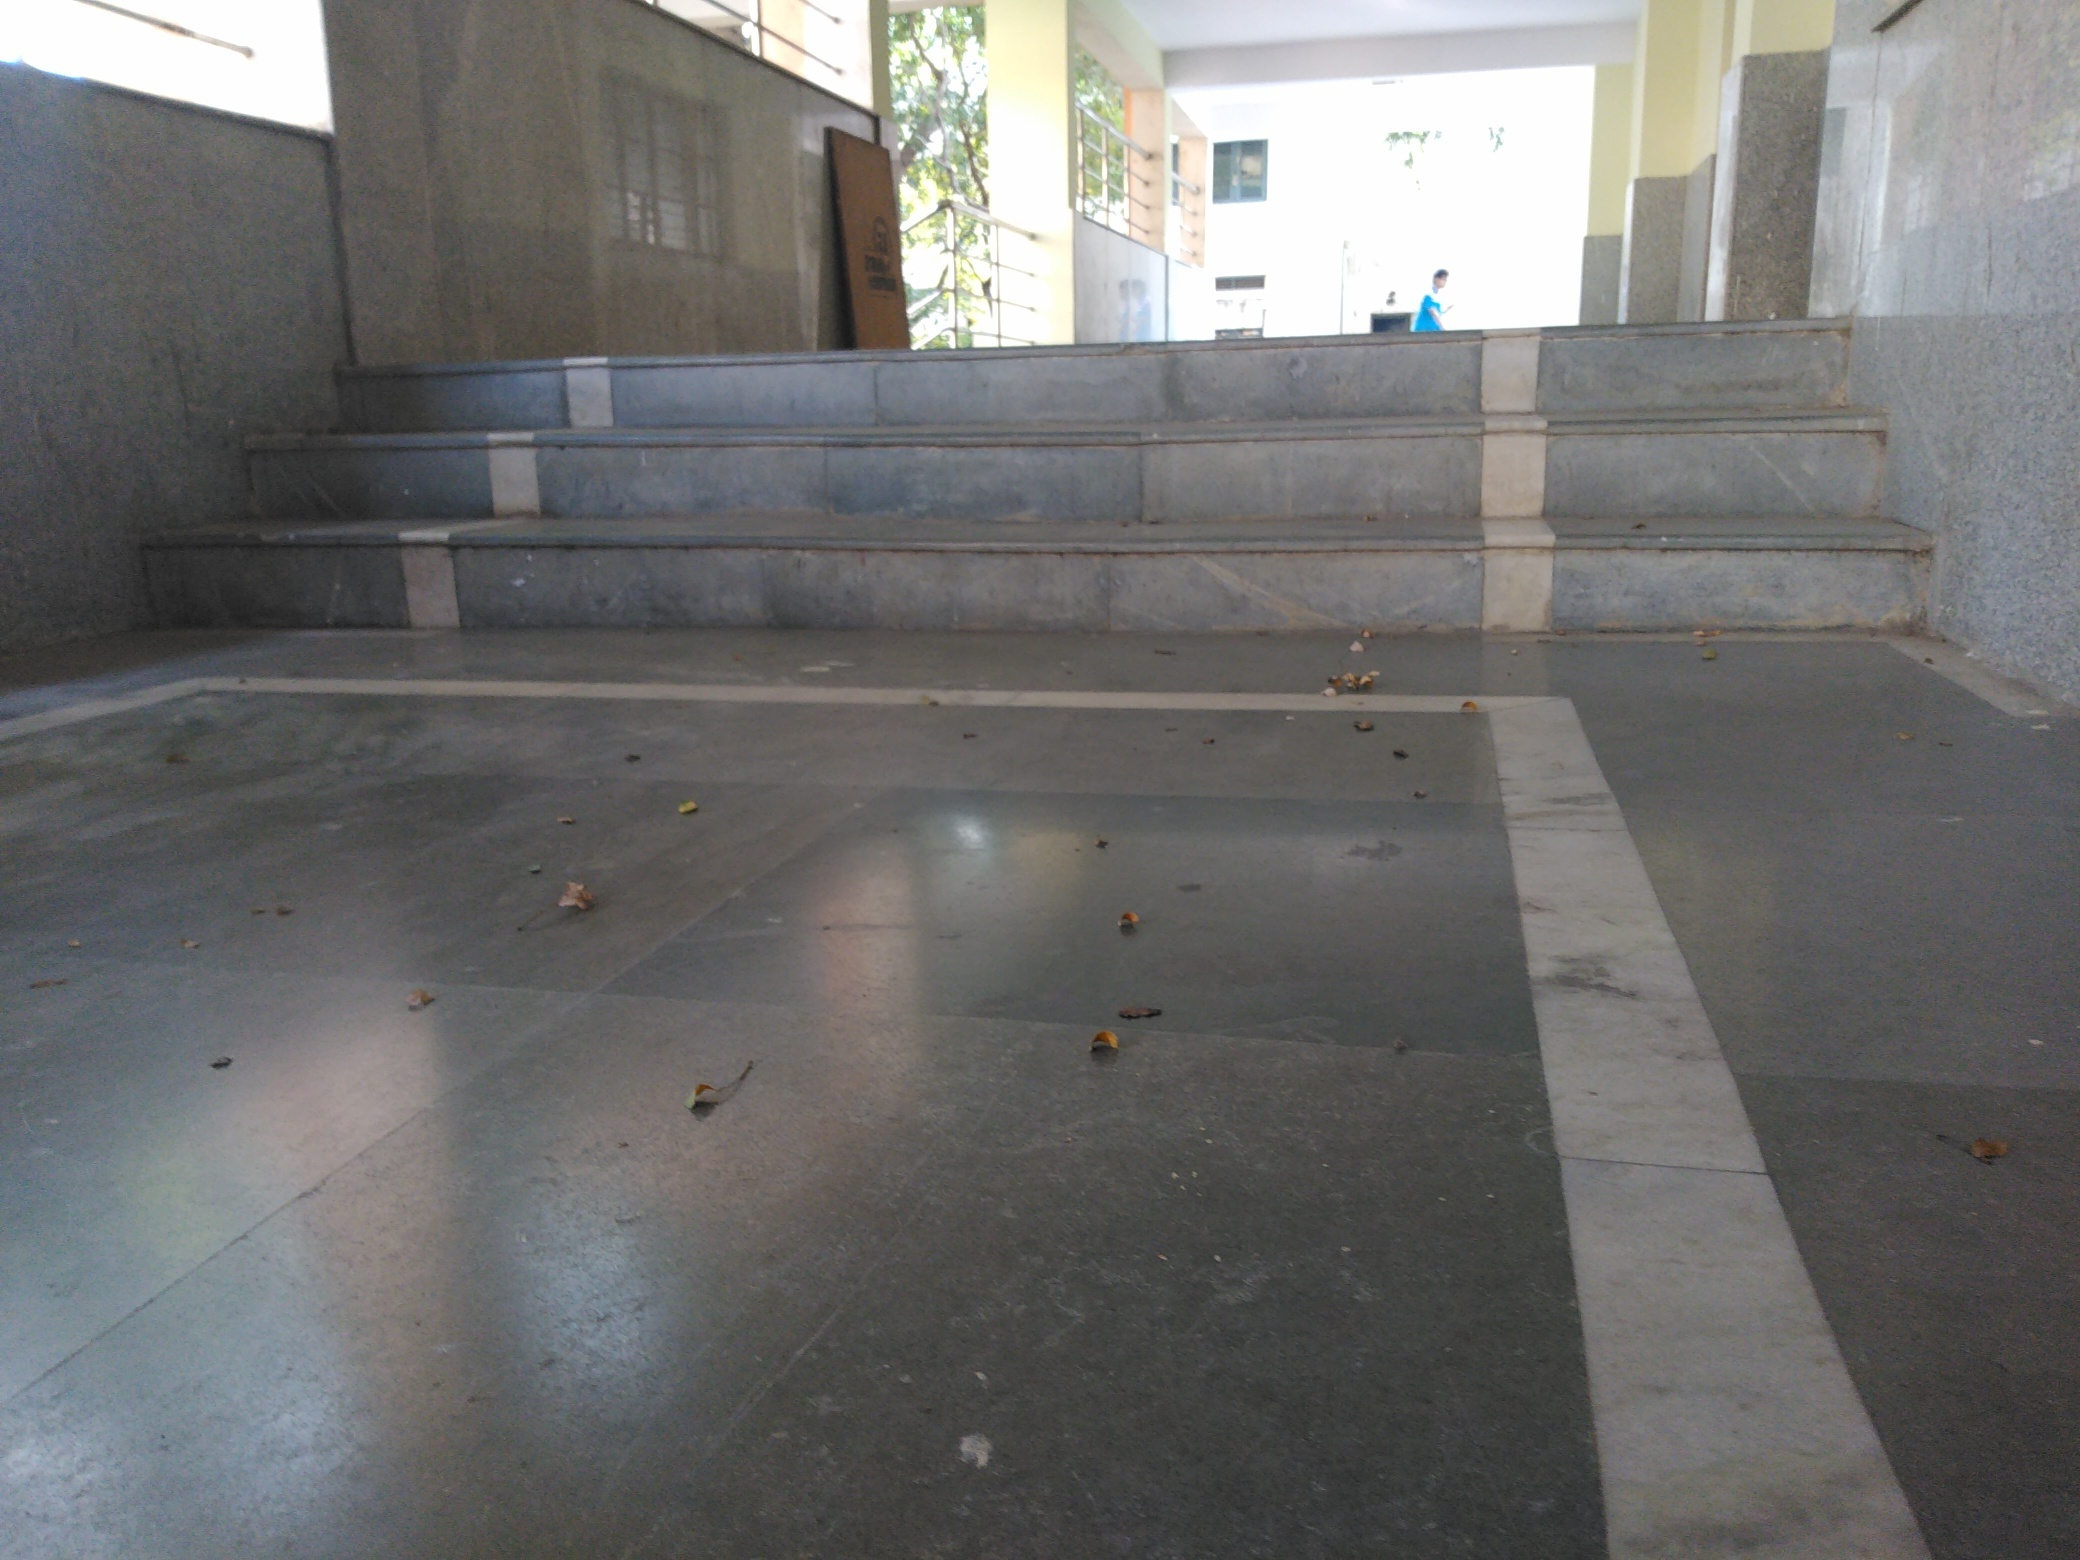stairs_up: (265, 364, 1847, 636)
